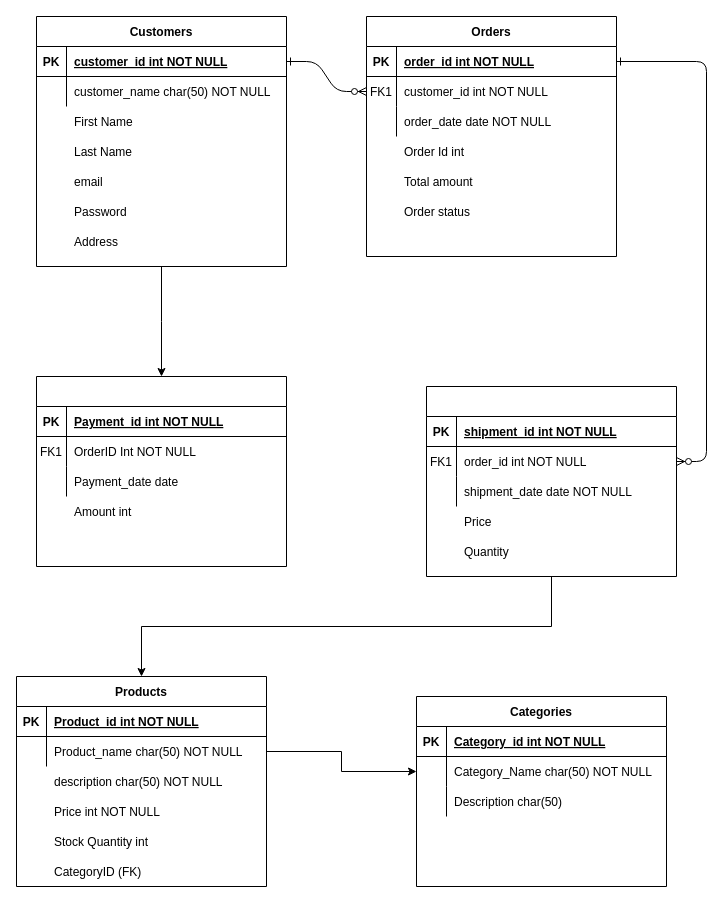
Some shapes in this 723 by 903 pixel diagram are drawn without their labels. The shapes that lost their labels are listed below. From the top down, each one's box as (x1, y1, x2, y2) in pixels, then its label:
(36, 376, 286, 566): Payments
(426, 386, 676, 576): Shipments
